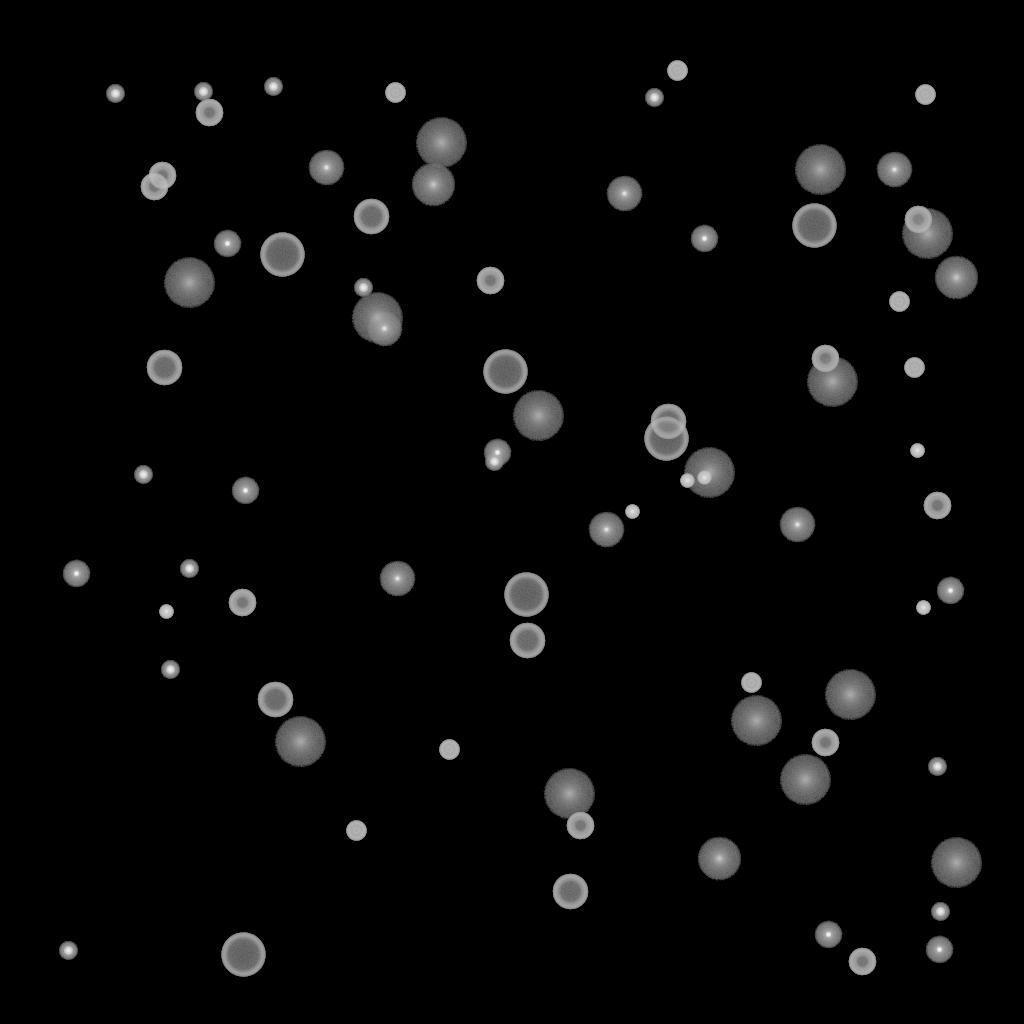depth:-10: (231, 477, 259, 505), (936, 577, 964, 605), (483, 439, 511, 467), (62, 560, 90, 588), (690, 225, 718, 253), (814, 921, 842, 949), (925, 936, 953, 964), (213, 230, 241, 258)
depth:-20: (134, 466, 152, 484), (161, 661, 179, 679), (264, 78, 282, 96), (194, 83, 212, 101), (106, 85, 124, 103), (180, 560, 198, 578), (354, 279, 372, 297), (485, 453, 503, 471), (645, 89, 663, 107), (59, 942, 77, 960), (931, 903, 949, 921), (928, 758, 946, 776)
depth:-30: (680, 474, 694, 488), (625, 505, 639, 519), (159, 605, 173, 619), (916, 601, 930, 615), (697, 471, 711, 485), (910, 444, 924, 458)
depth:-40: (667, 61, 687, 81), (346, 821, 366, 841), (439, 740, 459, 760), (385, 83, 405, 103), (741, 673, 761, 693), (915, 85, 935, 105), (889, 292, 909, 312), (904, 358, 924, 378)
depth:-50: (923, 492, 951, 520), (148, 162, 176, 190), (140, 173, 168, 201), (566, 812, 594, 840), (195, 99, 223, 127), (848, 948, 876, 976), (228, 589, 256, 617), (904, 206, 932, 234), (811, 729, 839, 757), (476, 267, 504, 295), (811, 345, 839, 373)
depth:-60: (552, 874, 588, 910), (650, 404, 686, 440), (353, 199, 389, 235), (257, 682, 293, 718), (146, 350, 182, 386), (509, 623, 545, 659)
depth:-70: (792, 204, 836, 248), (260, 233, 304, 277), (504, 573, 548, 617), (644, 417, 688, 461), (221, 933, 265, 977), (483, 350, 527, 394)
depth:0: (308, 150, 344, 186), (876, 152, 912, 188), (588, 512, 624, 548), (379, 561, 415, 597), (366, 311, 402, 347), (779, 507, 815, 543), (606, 176, 642, 212)
depth:10: (411, 163, 455, 207), (934, 256, 978, 300), (697, 837, 741, 881)
depth:20: (794, 145, 846, 195), (543, 769, 595, 819), (730, 696, 782, 746), (512, 391, 564, 441), (683, 448, 735, 498), (779, 755, 831, 805), (806, 357, 858, 407), (351, 293, 403, 343), (901, 209, 953, 259), (930, 838, 982, 888), (824, 670, 876, 720), (274, 717, 326, 767), (415, 118, 467, 168), (163, 258, 215, 308)
